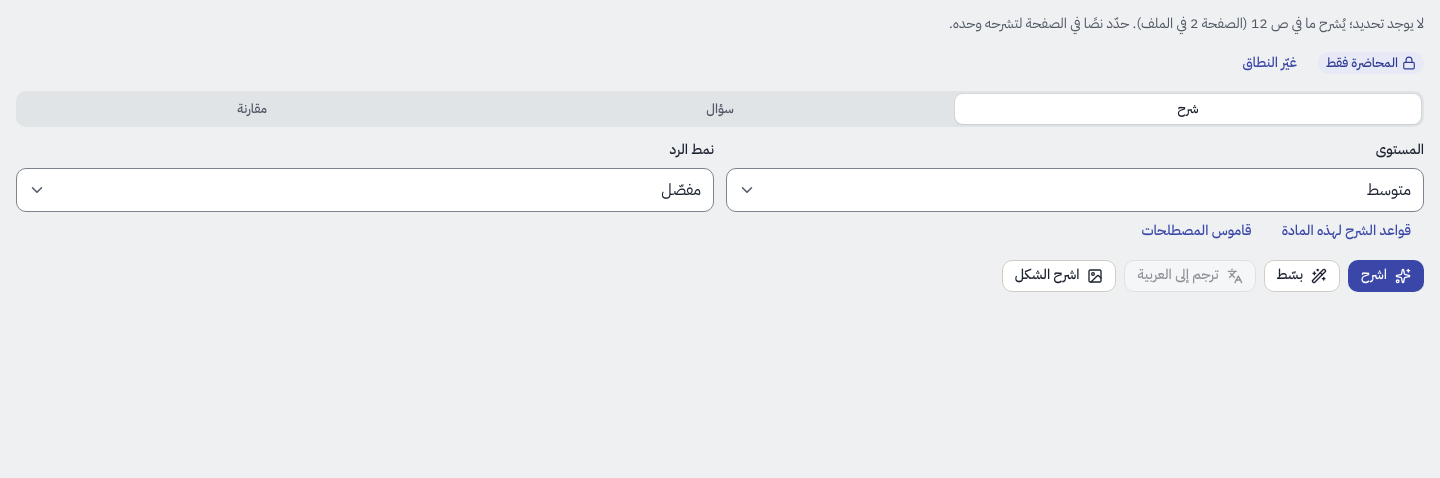
Scenario: ExplainTab › server errors keep their specific title and message (e.g. not configured, out of scope)
The image size is (1440, 478).
What coordinates should you click on to do the following:
click the button "اشرح"
I would click on:
 (1386, 276)
Its box is [1348,260,1424,292].
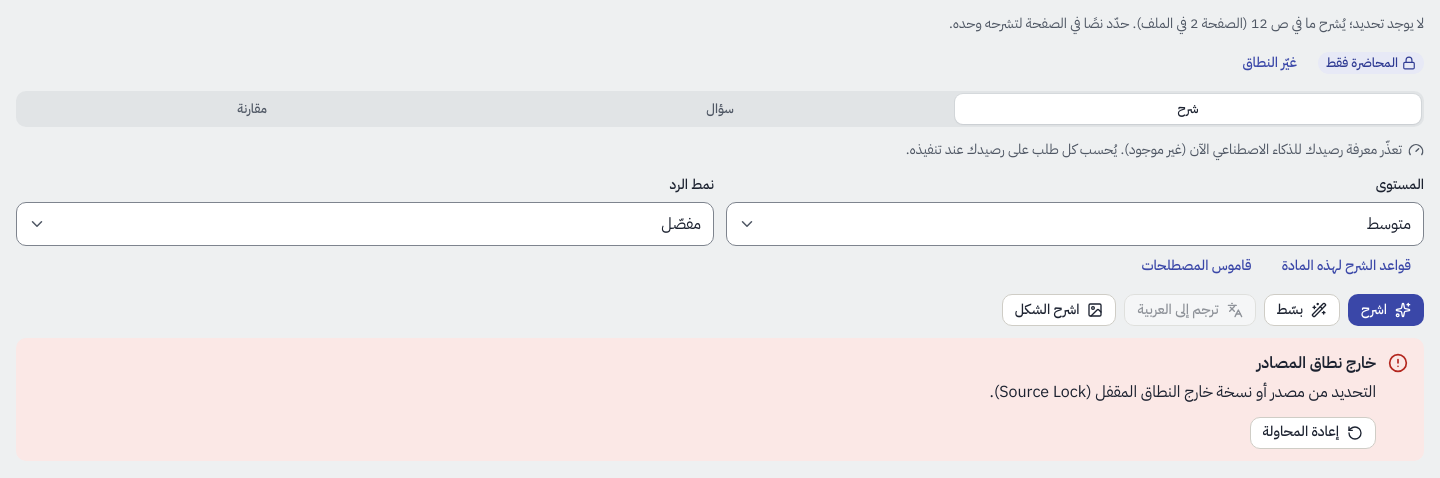
Expected: the text "خارج نطاق المصادر" is shown, [1257,351,1376,375]
Expected: the text "التحديد من مصدر أو نسخة خارج النطاق المقفل (Source Lock)." is shown, [990,379,1376,407]
